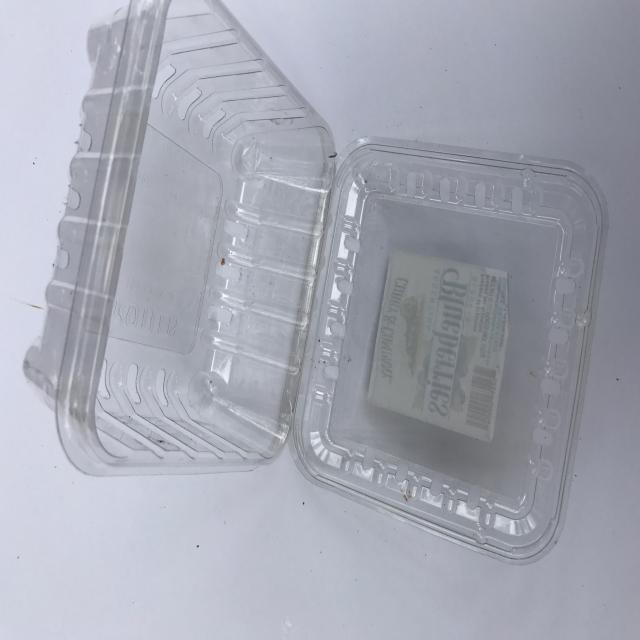plastic: (23, 0, 609, 565)
